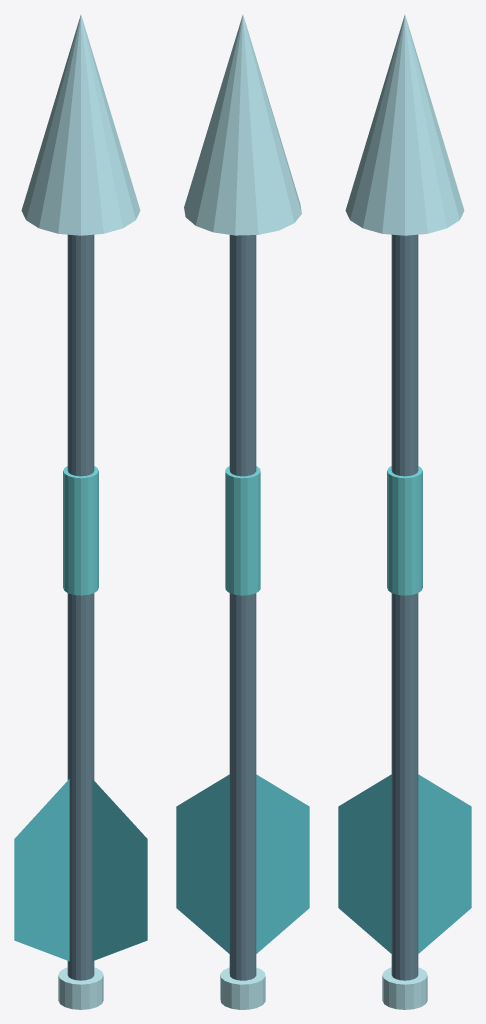
File: anak-panah.glb
The picture shows the model from 3 angles, left to right: view 1: azimuth 90°, elevation 25°; view 2: azimuth 150°, elevation 25°; view 3: azimuth 270°, elevation 25°; orthographic projection.
Parts seen in each view (by area): view 1: Shaft, Arrowhead, Fletching 2, Fletching 3, Grip, Nock; view 2: Shaft, Arrowhead, Fletching 1, Fletching 2, Grip, Nock; view 3: Shaft, Arrowhead, Fletching 2, Fletching 3, Grip, Nock.
Boxes of the visible parts, x1,y1,x2,y2 form: Shaft: (67, 234, 94, 980); Arrowhead: (21, 15, 140, 235); Fletching 2: (92, 779, 147, 961); Fletching 3: (14, 779, 69, 961); Grip: (63, 466, 98, 595); Nock: (58, 967, 103, 1009); Shaft: (229, 235, 256, 980); Arrowhead: (184, 15, 301, 235); Fletching 1: (176, 774, 229, 953); Fletching 2: (256, 774, 309, 953); Grip: (225, 466, 260, 595); Nock: (220, 967, 265, 1009); Shaft: (391, 234, 418, 980); Arrowhead: (345, 15, 464, 235); Fletching 2: (338, 774, 391, 953); Fletching 3: (418, 774, 471, 953); Grip: (387, 466, 422, 595); Nock: (382, 967, 427, 1009).
Bounding box in the file's own units: 0.39 × 3.11 × 0.3811.
